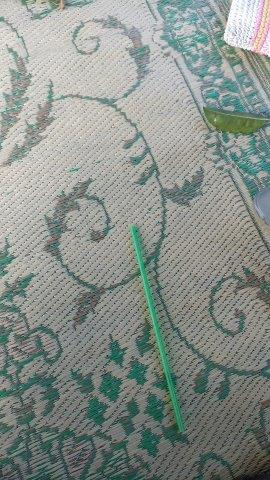sedotan: (131, 226, 184, 431)
